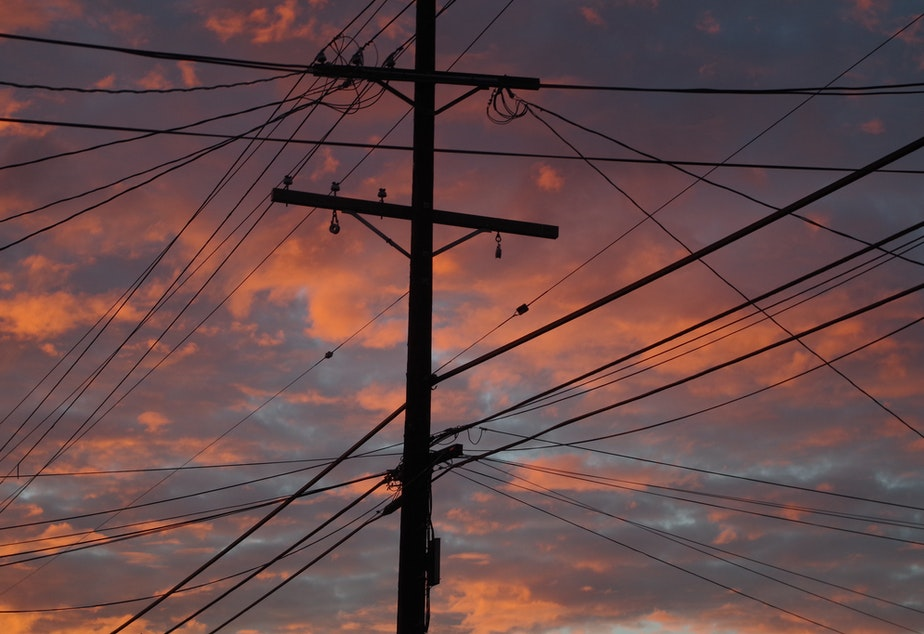utility_pole: (252, 1, 575, 323)
